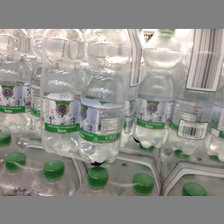water: (77, 29, 132, 165), (130, 29, 180, 145), (38, 29, 82, 156), (1, 29, 33, 135)
